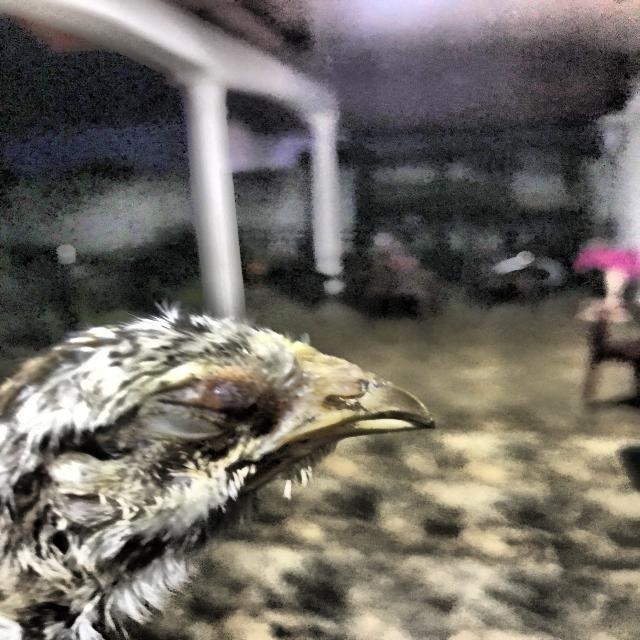Coryza: (28, 278, 461, 540)
